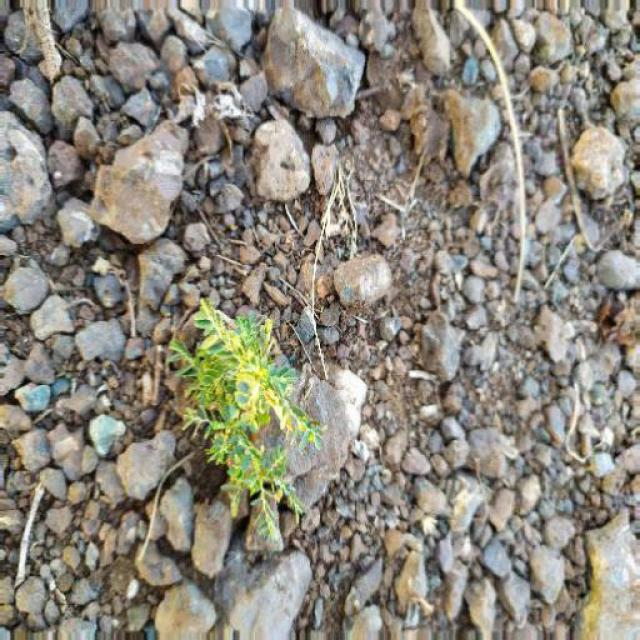weed: (175, 291, 329, 534)
